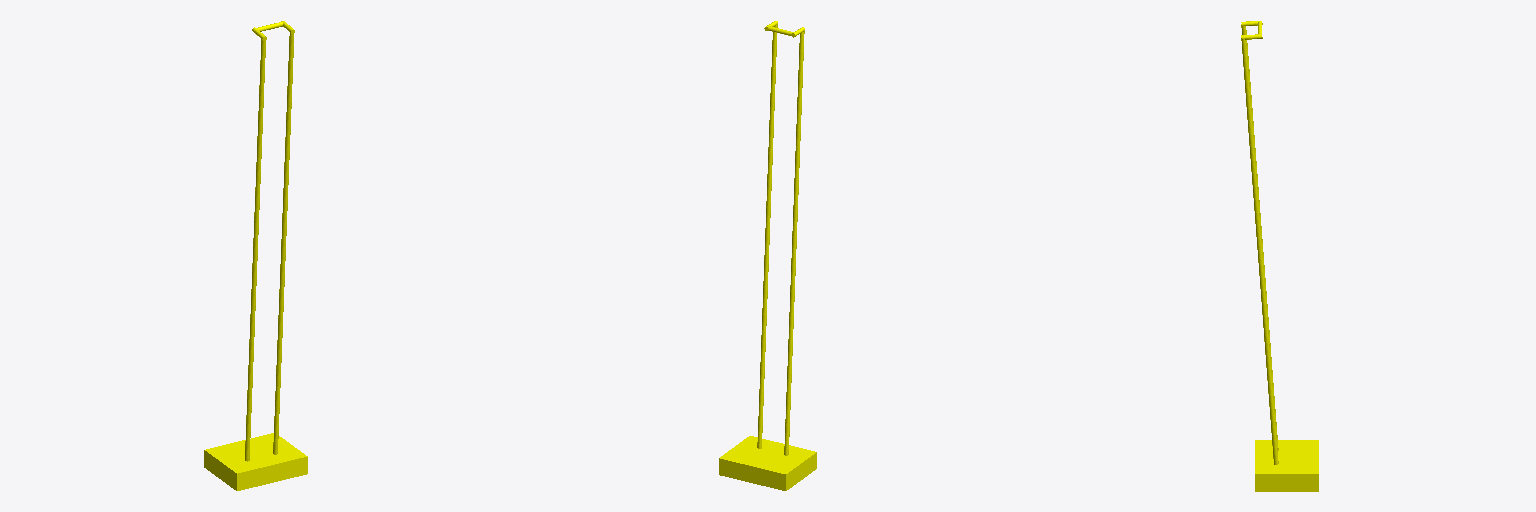
The robot description file, URDF, robot "box_dummy":
<?xml version="1.0"?>
<robot name="box_dummy">
  <material name="black">
    <color rgba="0.0 0.0 0.0 1.0"/>
  </material>
  <material name="orange">
    <color rgba="1.0 0.4 0.0 1.0"/>
  </material>



  <link name="world" />
  <joint name="world_to_base_link=" type="fixed">
    <parent link="world"/>
    <child link="base"/>
    <origin rpy="-1.5707 0 0" xyz="0 0 -0.1445"/>
  </joint>

  <link name="base">
    <visual>
        <geometry>
            <box size="0.05 0.012 0.04"/>
        </geometry>
        <origin rpy="0 0 0" xyz="0 0 0"/>
        <material name="yellow">
            <color rgba="1 1 0 1"/>
        </material>
    </visual>
    <collision>
        <geometry>
          <box size="0.05 0.012 0.04"/>
        </geometry>
        <origin rpy="0 0 0" xyz="0 0 0"/>
    </collision>
    <inertial>
      <mass value="1"/>
      <inertia ixx="1.0" ixy="0.0" ixz="0.0" iyy="1.0" iyz="0.0" izz="1.0"/>       
    </inertial>
  </link>

  <link name="left_cylinder">
   <visual>
        <geometry>
          <cylinder radius="0.0015" length="0.3"/>
        </geometry>
        <origin rpy="0 0 0" xyz="0 0 0"/>
        <material name="yellow">
            <color rgba="1 1 0 1"/>
        </material>
    </visual>
    <collision>
        <geometry>
          <cylinder radius="0.0015" length="0.3"/>
        </geometry>
        <origin rpy="0 0 0" xyz="0 0 0"/>
    </collision>
    <inertial>
      <mass value="1"/>
      <inertia ixx="1.0" ixy="0.0" ixz="0.0" iyy="1.0" iyz="0.0" izz="1.0"/>       
    </inertial>
  </link>

  

  <joint name="base_to_left_cylinder" type="fixed">
    <parent link="base"/>
    <child link="left_cylinder"/>
    <origin rpy="1.64 0 0" xyz="-0.01 -0.15 -0.0165"/>
  </joint>

  <link name="right_cylinder">
   <visual>
        <geometry>
          <cylinder radius="0.0015" length="0.3"/>
        </geometry>
        <origin rpy="0 0 0" xyz="0 0 0"/>
        <material name="yellow">
            <color rgba="1 1 0 1"/>
        </material>
    </visual>
    <collision>
        <geometry>
          <cylinder radius="0.0015" length="0.3"/>
        </geometry>
        <origin rpy="0 0 0" xyz="0 0 0"/>
    </collision>
    <inertial>
      <mass value="1"/>
      <inertia ixx="1.0" ixy="0.0" ixz="0.0" iyy="1.0" iyz="0.0" izz="1.0"/>       
    </inertial>
  </link>

  

  <joint name="base_to_right_cylinder" type="fixed">
    <parent link="base"/>
    <child link="right_cylinder"/>

    <origin rpy="1.64 0 0" xyz="0.01 -0.15 -0.0165"/>
  </joint>


  <link name="left2_cylinder">
   <visual>
        <geometry>
          <cylinder radius="0.0015" length="0.013"/>
        </geometry>
        <origin rpy="0 0 0" xyz="0 0 0"/>
        <material name="yellow">
            <color rgba="1 1 0 1"/>
        </material>
    </visual>
    <collision>
        <geometry>
          <cylinder radius="0.0015" length="0.013"/>
        </geometry>
        <origin rpy="0 0 0" xyz="0 0 0"/>
    </collision>
    <inertial>
      <mass value="1"/>
      <inertia ixx="1.0" ixy="0.0" ixz="0.0" iyy="1.0" iyz="0.0" izz="1.0"/>       
    </inertial>
  </link>

  

  <joint name="left_cylinder_to_left2_cylinder" type="fixed">
    <parent link="left_cylinder"/>
    <child link="left2_cylinder"/>
    <origin rpy="1.5707 0 0" xyz="0 0.00525 0.15"/>
  </joint>



  <link name="right2_cylinder">
   <visual>
        <geometry>
          <cylinder radius="0.0015" length="0.013"/>
        </geometry>
        <origin rpy="0 0 0" xyz="0 0 0"/>
        <material name="yellow">
            <color rgba="1 1 0 1"/>
        </material>
    </visual>
    <collision>
        <geometry>
          <cylinder radius="0.0015" length="0.013"/>
        </geometry>
        <origin rpy="0 0 0" xyz="0 0 0"/>
    </collision>
    <inertial>
      <mass value="1"/>
      <inertia ixx="1.0" ixy="0.0" ixz="0.0" iyy="1.0" iyz="0.0" izz="1.0"/>       
    </inertial>
  </link>

  

  <joint name="right_cylinder_to_right2_cylinder" type="fixed">
    <parent link="right_cylinder"/>
    <child link="right2_cylinder"/>
    <origin rpy="1.5707 0 0" xyz="0 0.00525 0.15"/>
  </joint>


  <link name="end_cylinder">
   <visual>
        <geometry>
          <cylinder radius="0.0015" length="0.02"/>
        </geometry>
        <origin rpy="0 0 0" xyz="0 0 0"/>
        <material name="yellow">
            <color rgba="1 1 0 1"/>
        </material>
    </visual>
    <collision>
        <geometry>
          <cylinder radius="0.0015" length="0.018"/>
        </geometry>
        <origin rpy="0 0 0" xyz="0 0 0"/>
    </collision>
    <inertial>
      <mass value="1"/>
      <inertia ixx="1.0" ixy="0.0" ixz="0.0" iyy="1.0" iyz="0.0" izz="1.0"/>       
    </inertial>
  </link>

  

  <joint name="right2_cylinder_to_end_cylinder" type="fixed">
    <parent link="right2_cylinder"/>
    <child link="end_cylinder"/>
    <origin rpy="0 1.5707 0" xyz="-0.01 0 -0.005"/>
  </joint>
</robot>

--- Facts derived from the render (not from the file) ---
Views: 3 orthographic renders of the robot side by side, from view 1: azimuth 30°, elevation 25°; view 2: azimuth 150°, elevation 25°; view 3: azimuth 270°, elevation 25°.
Robot: box_dummy — 7 links, 6 joints (6 fixed); root link world; default pose: all joints at 0.
Links seen in each view (by area): view 1: base, left_cylinder, right_cylinder; view 2: base, left_cylinder, right_cylinder; view 3: base, right_cylinder.
Boxes of the visible links, <box> form: base: <box>204,433,307,490</box>; left_cylinder: <box>245,39,265,461</box>; right_cylinder: <box>273,32,293,454</box>; base: <box>719,436,816,490</box>; left_cylinder: <box>784,31,804,455</box>; right_cylinder: <box>757,24,777,448</box>; base: <box>1255,440,1318,491</box>; right_cylinder: <box>1241,37,1278,464</box>.
Bounding box of the posed robot: 0.05 × 0.0484 × 0.3079 m (x, y, z).
Geometry: primitives only (box / cylinder / sphere), no mesh files.
